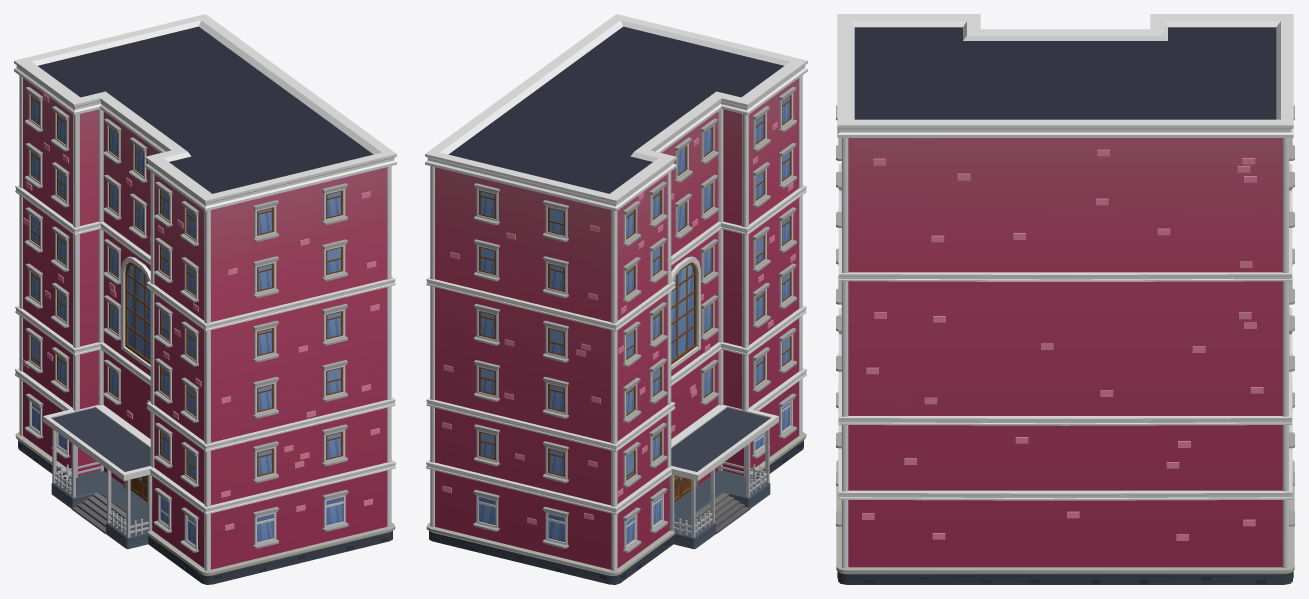
File: Building_5_4_E.fbx
The picture shows the model from 3 angles, left to right: view 1: azimuth 30°, elevation 25°; view 2: azimuth 150°, elevation 25°; view 3: azimuth 270°, elevation 25°; orthographic projection. The views are drawn at different scales.
Parts seen in each view (by area): view 1: Building_5_4_E; view 2: Building_5_4_E; view 3: Building_5_4_E.
Boxes of the visible parts, bbox=[...] form: Building_5_4_E: bbox=[14, 14, 396, 584]; Building_5_4_E: bbox=[425, 14, 807, 584]; Building_5_4_E: bbox=[836, 14, 1294, 584].
Bounding box in the file's own units: 1251 × 2109 × 1908.
